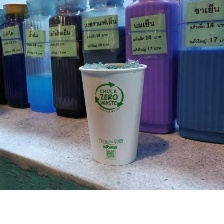paper_cup: (75, 56, 151, 169)
